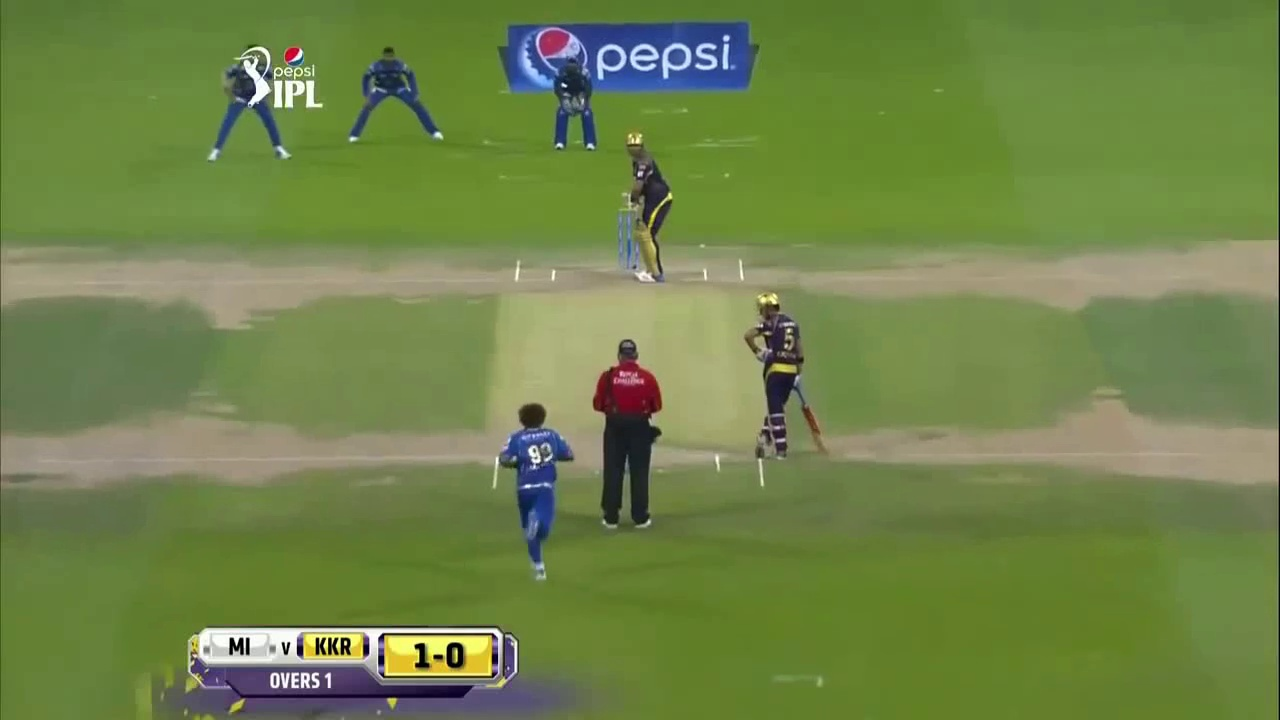bat: (795, 385, 835, 462)
batter: (622, 126, 677, 287)
field: (1, 1, 1280, 717)
pitch: (479, 236, 792, 496)
player: (548, 52, 607, 155)
stumps: (607, 188, 644, 271)
